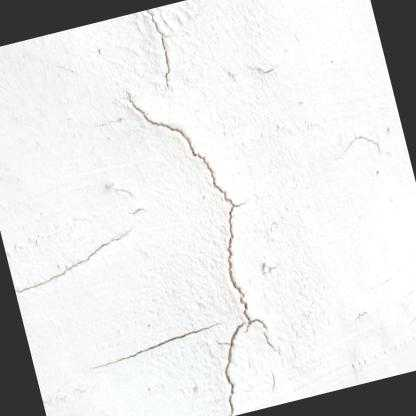crack: (129, 96, 264, 416), (12, 226, 127, 295), (98, 320, 207, 377), (141, 8, 170, 78)
